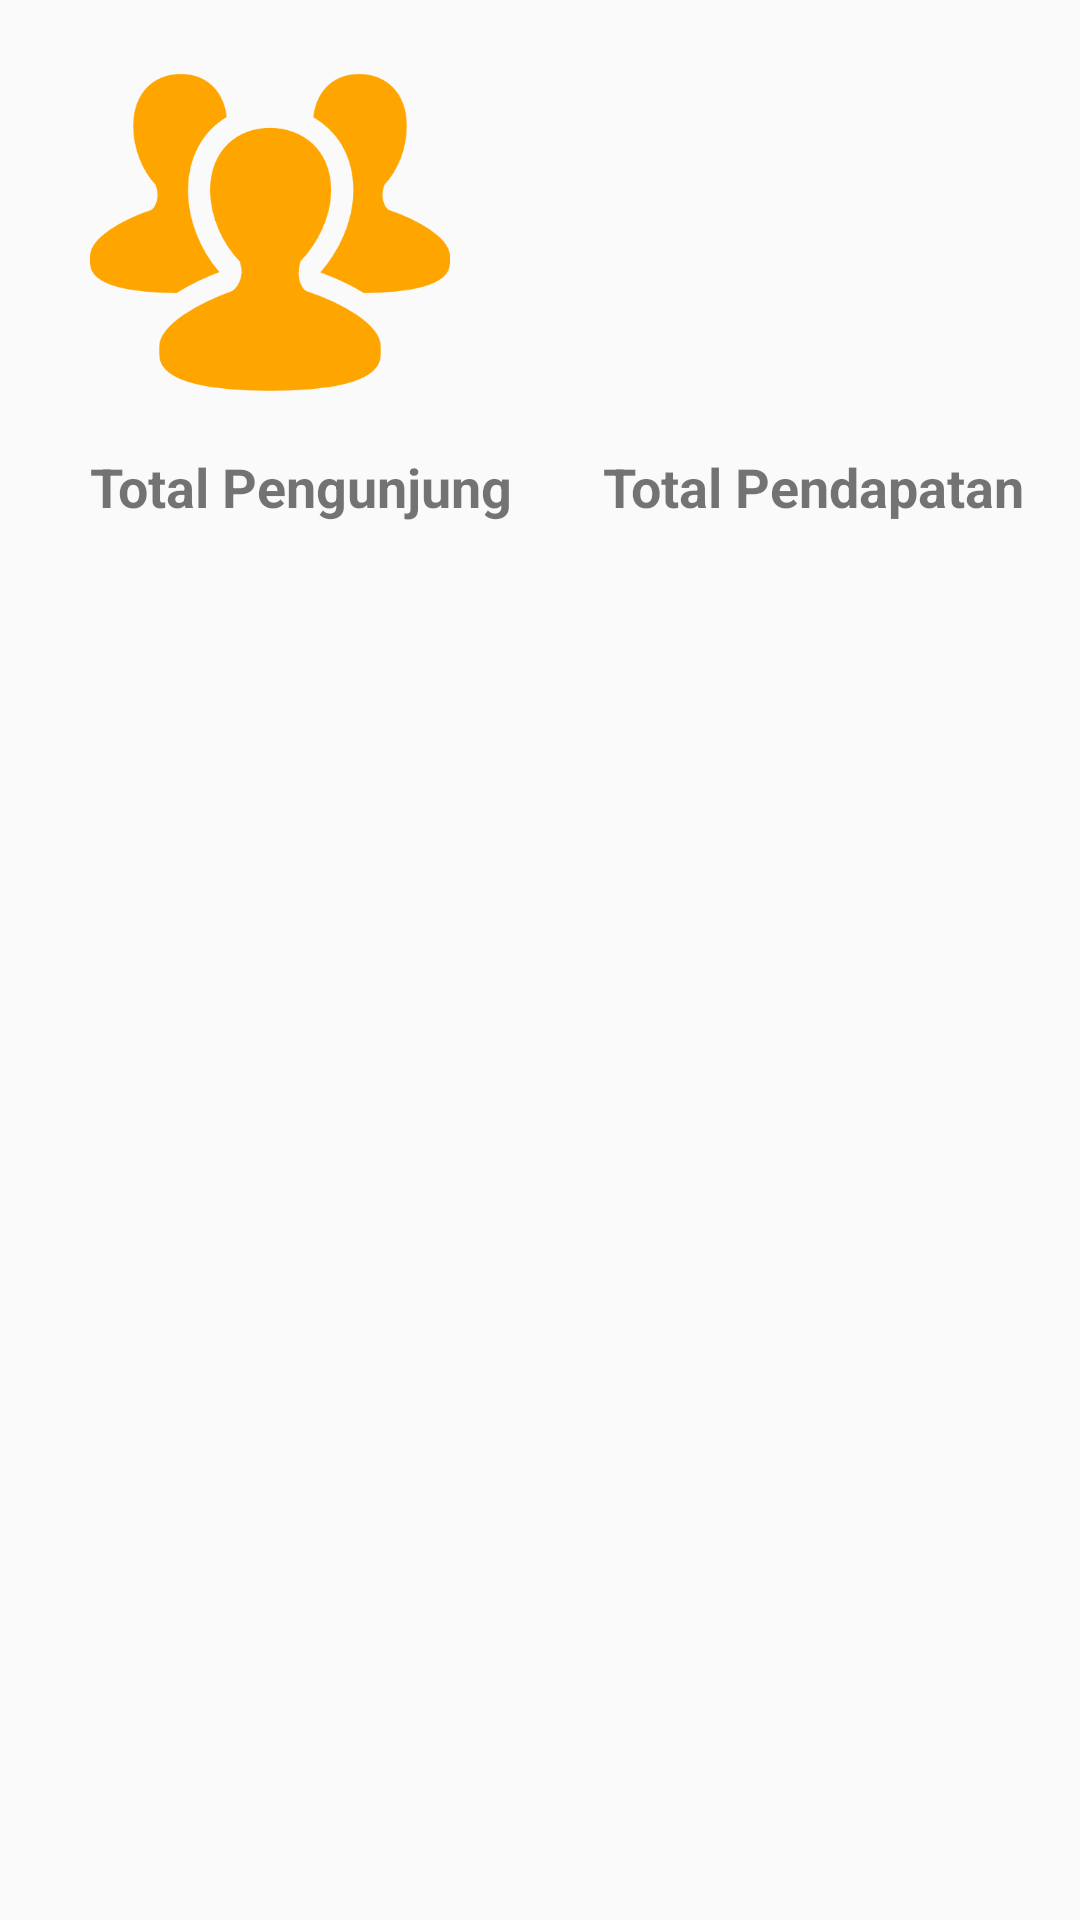

Named icons in this screenshot (1080w x 1920h) and their bounding boxes, (x1, y1, x2, y2):
attendance: (90, 74, 450, 391)
